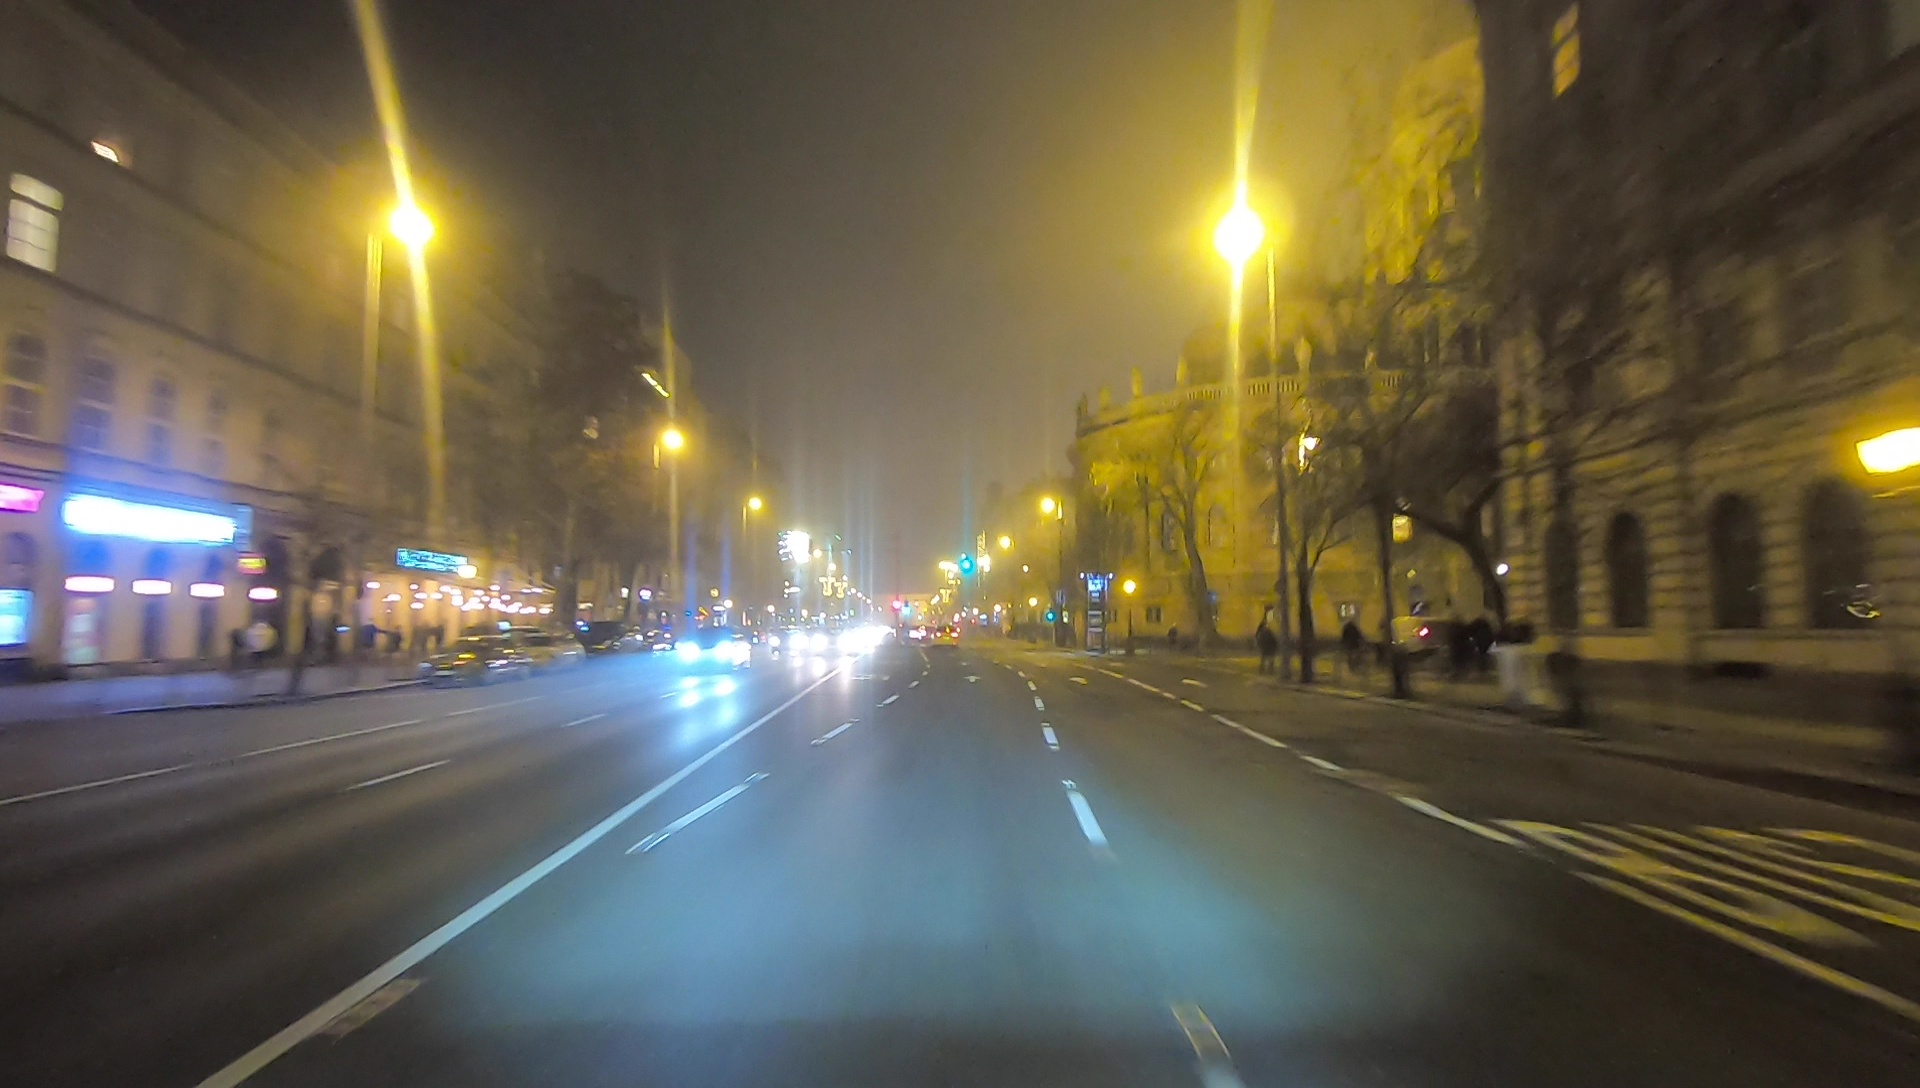person: (249, 621, 275, 689), (1341, 619, 1365, 673), (1256, 619, 1276, 671), (1445, 619, 1464, 678), (1471, 617, 1491, 673)
